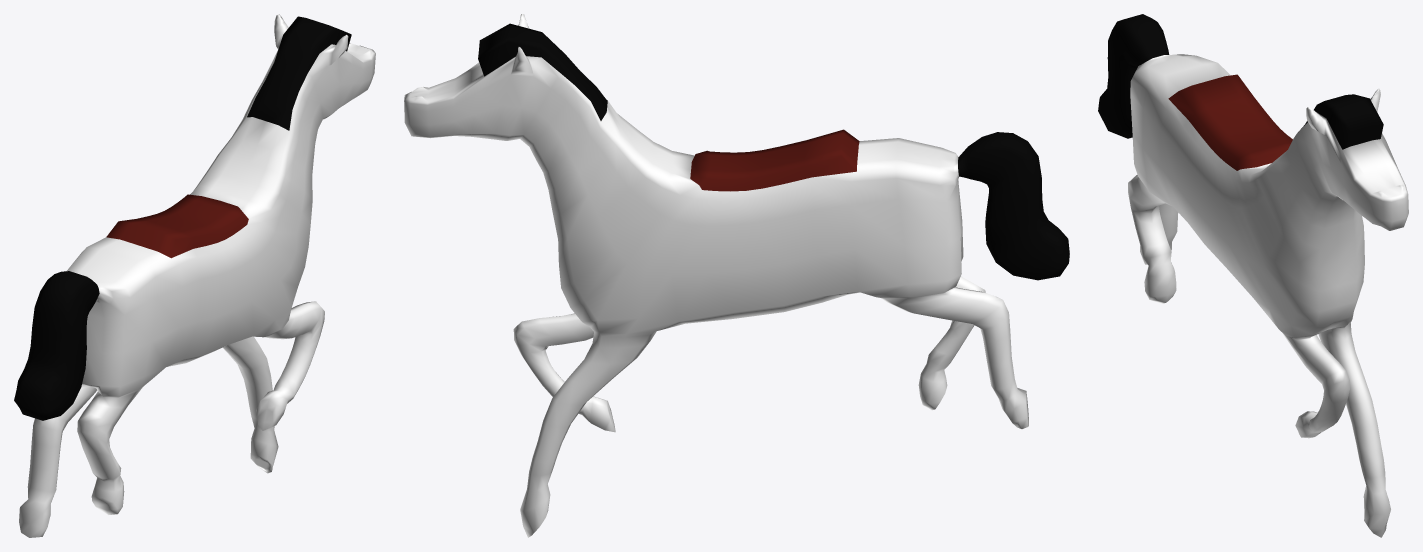
File: SM_W_Horse.fbx
3 views of the same model, side by side, from view 1: azimuth 30°, elevation 25°; view 2: azimuth 150°, elevation 25°; view 3: azimuth 270°, elevation 25° (orthographic). The views are drawn at different scales.
Visible parts, largest first — view 1: SM_W_Horse; view 2: SM_W_Horse; view 3: SM_W_Horse.
Part boxes in pixels (box(x1,y1,x2,y2)): SM_W_Horse: box(14, 14, 375, 537); SM_W_Horse: box(404, 14, 1069, 537); SM_W_Horse: box(1098, 14, 1408, 537).
Size of the model in its own units: 34.2 by 30.61 by 19.
